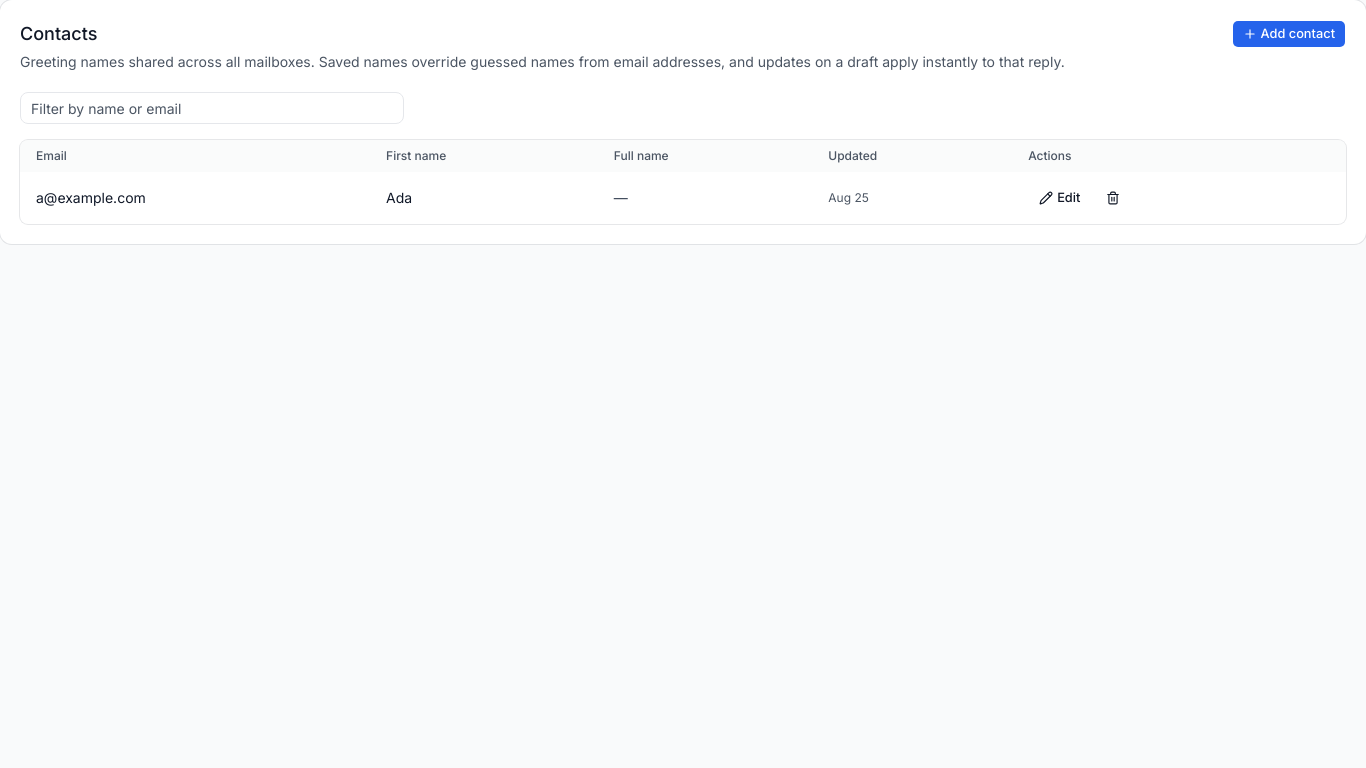
Test: ContactsSection › edits an existing first name in the table
The image size is (1366, 768).
Expected: the text "Ada" is shown, [370, 172, 598, 224]
Click the button with aria-label "Edit contact a@example.com" at (1060, 198), box [1028, 184, 1091, 212]
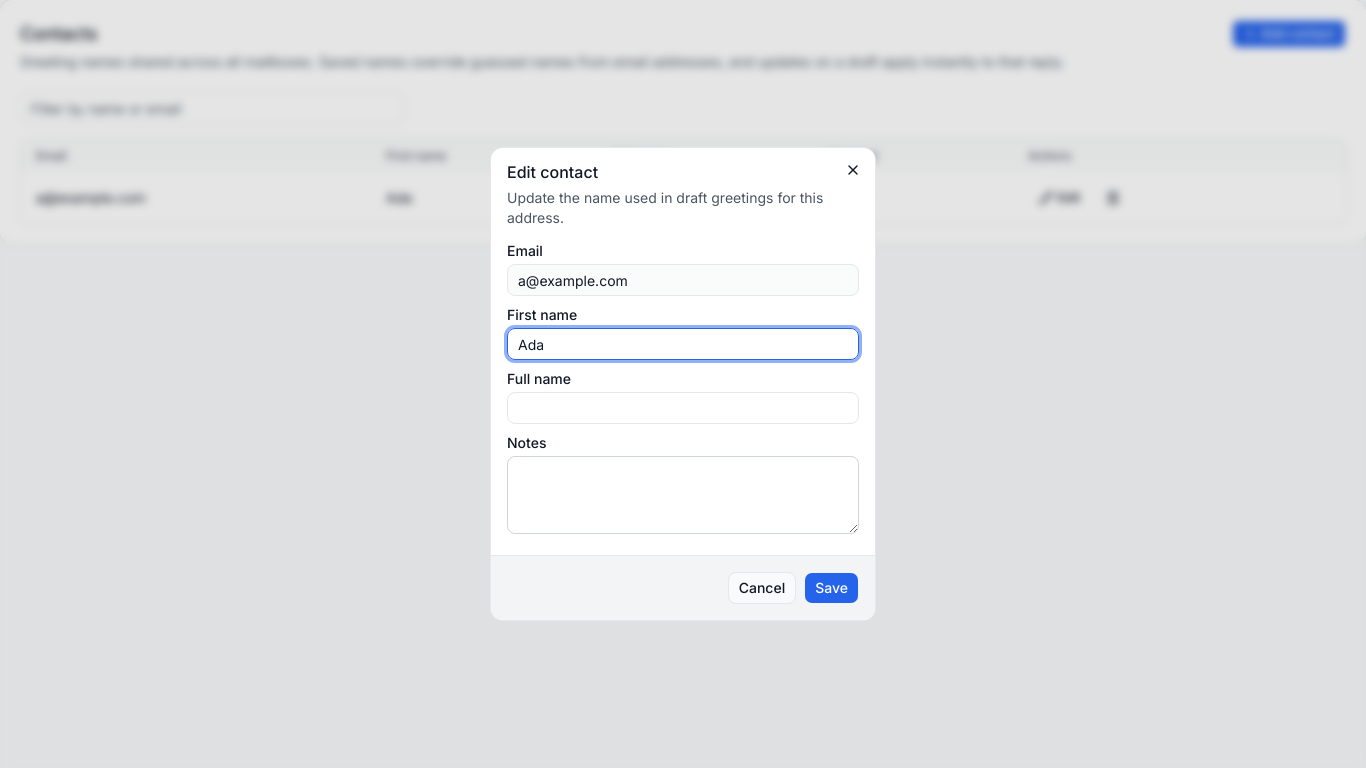
Replace the text in the field named "Contact first name" with "Adelaide" at (683, 344), box [507, 328, 859, 360]
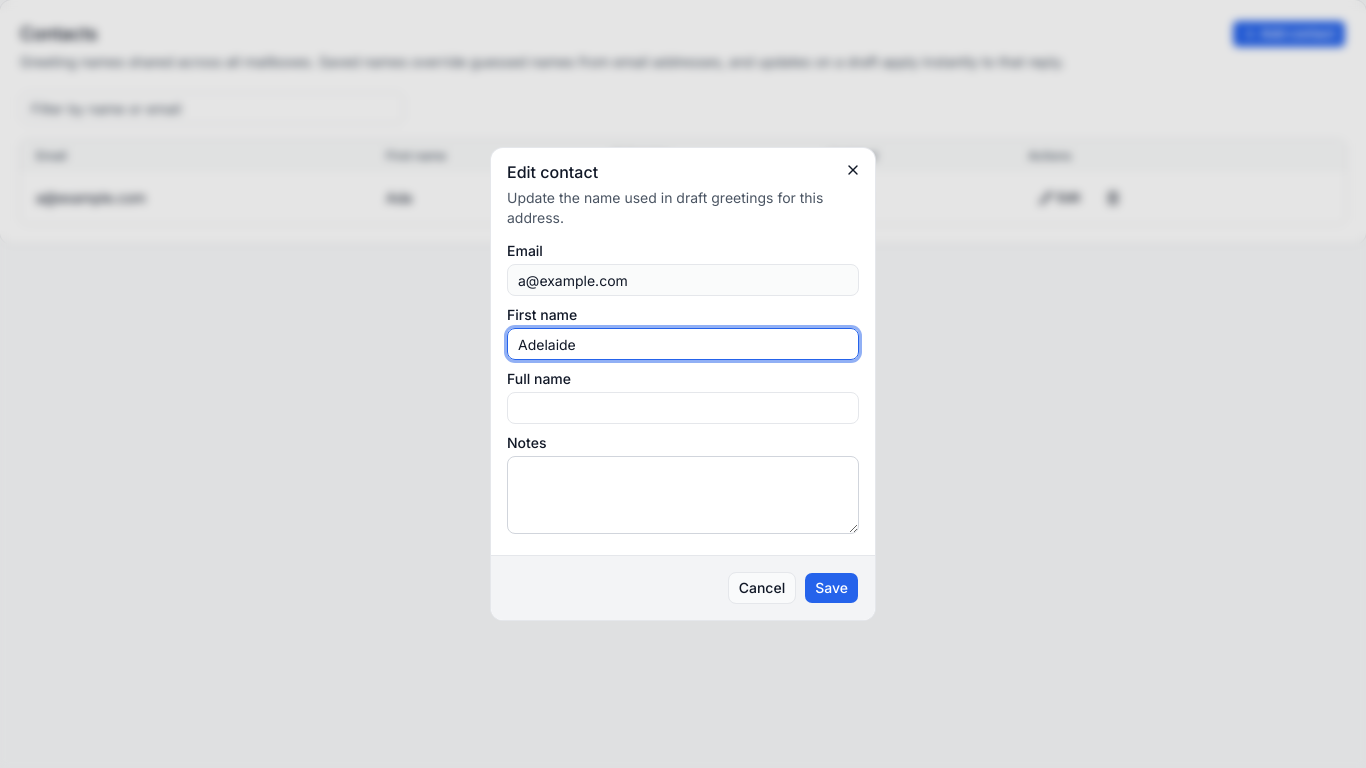
Click the button with aria-label "Save contact" at (832, 588), box [804, 572, 859, 604]
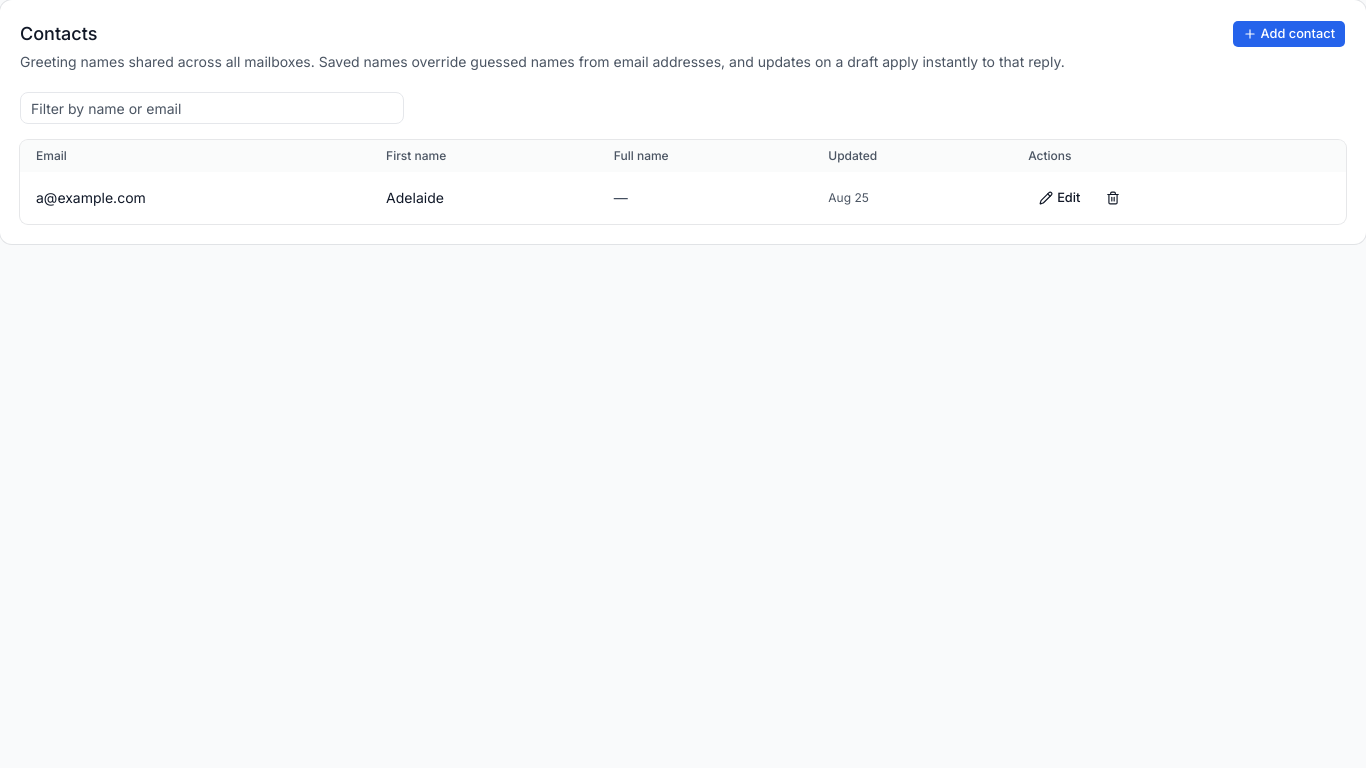
Now the text "Adelaide" is shown, box [370, 172, 598, 224]
Now the text "Ada" is gone
